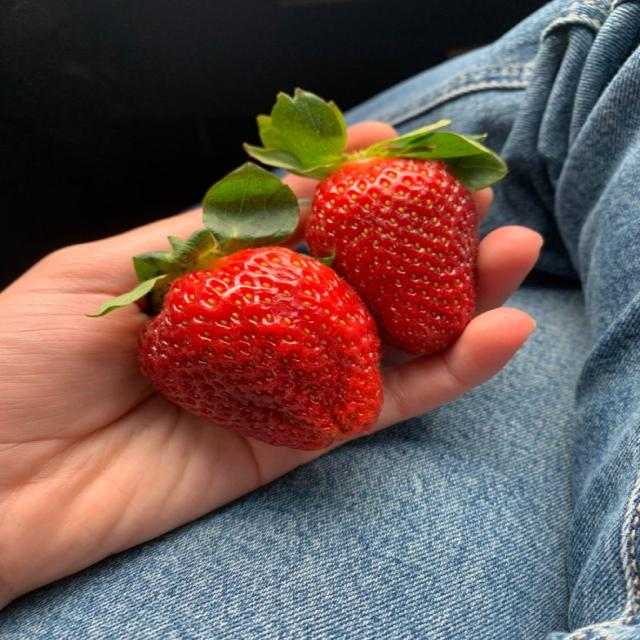strawberry: (100, 165, 382, 449), (246, 91, 506, 354)
